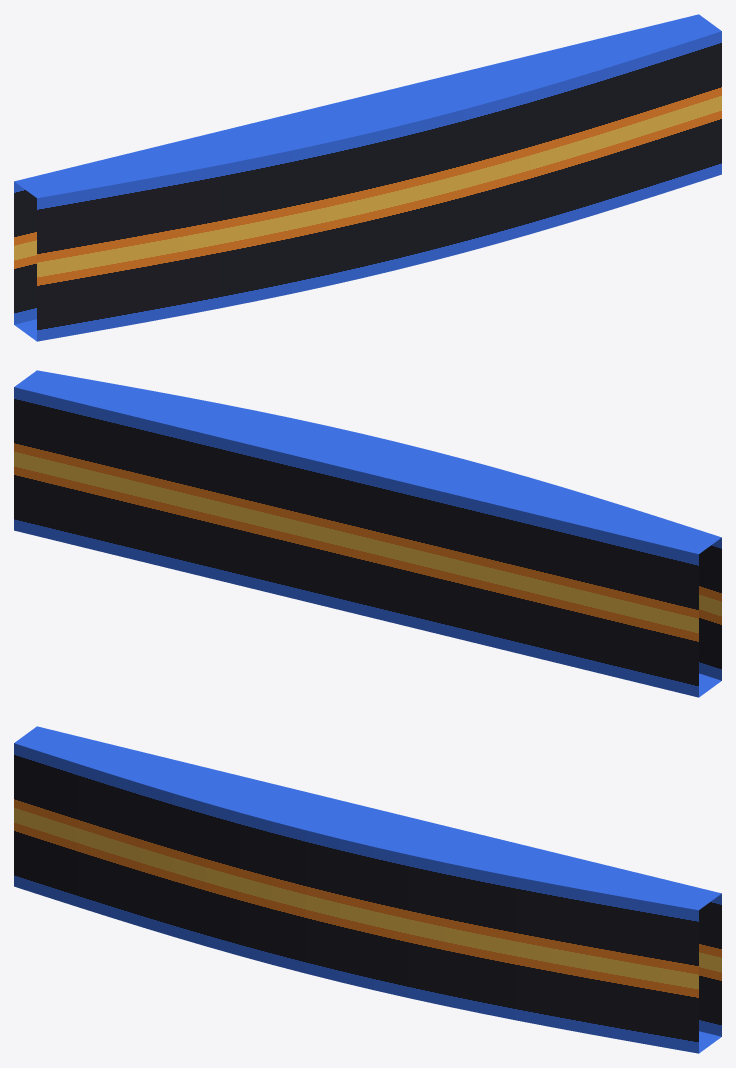
File: paddle_curved.obj
3 views of the same model, one above another, from view 1: azimuth 30°, elevation 25°; view 2: azimuth 150°, elevation 25°; view 3: azimuth 330°, elevation 25° (orthographic).
Size of the model in its own units: 6 by 1.2 by 0.6.
1 material, 1 textured.
